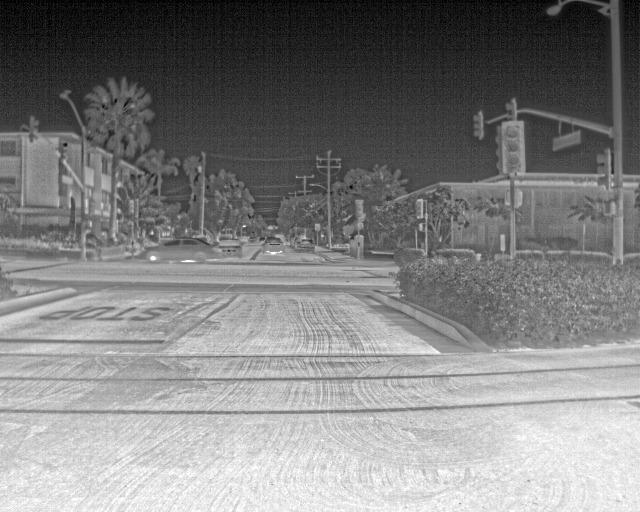car: (145, 237, 223, 263), (218, 238, 243, 259), (288, 225, 307, 247), (262, 237, 284, 255), (295, 238, 315, 254), (248, 236, 258, 244), (259, 237, 265, 243)
light: (505, 126, 520, 168), (596, 153, 608, 186), (495, 136, 503, 168), (506, 190, 522, 206), (506, 102, 515, 121), (473, 115, 480, 137), (604, 201, 614, 215), (32, 120, 39, 139), (62, 143, 68, 161), (134, 200, 139, 218), (416, 202, 421, 217), (129, 200, 134, 215), (357, 202, 361, 217), (86, 220, 92, 228), (357, 223, 363, 230), (419, 224, 422, 231)
sign: (552, 130, 581, 151), (61, 175, 73, 184), (500, 234, 505, 251), (315, 224, 320, 231)
